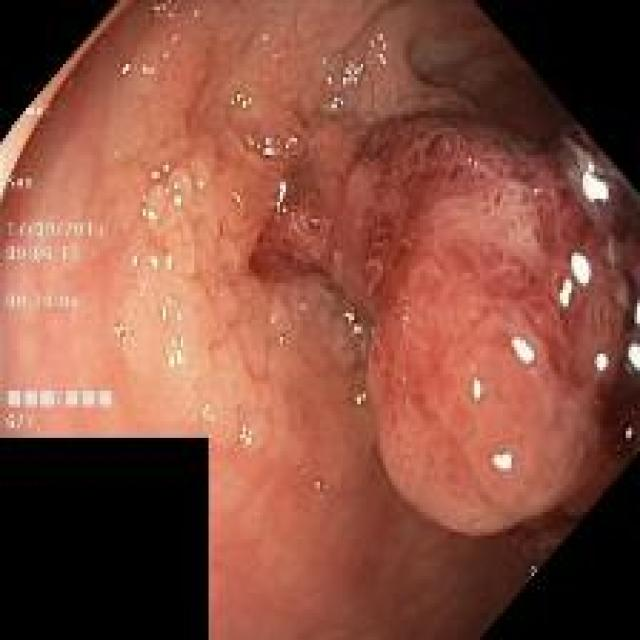Polyps: (336, 119, 640, 537)
